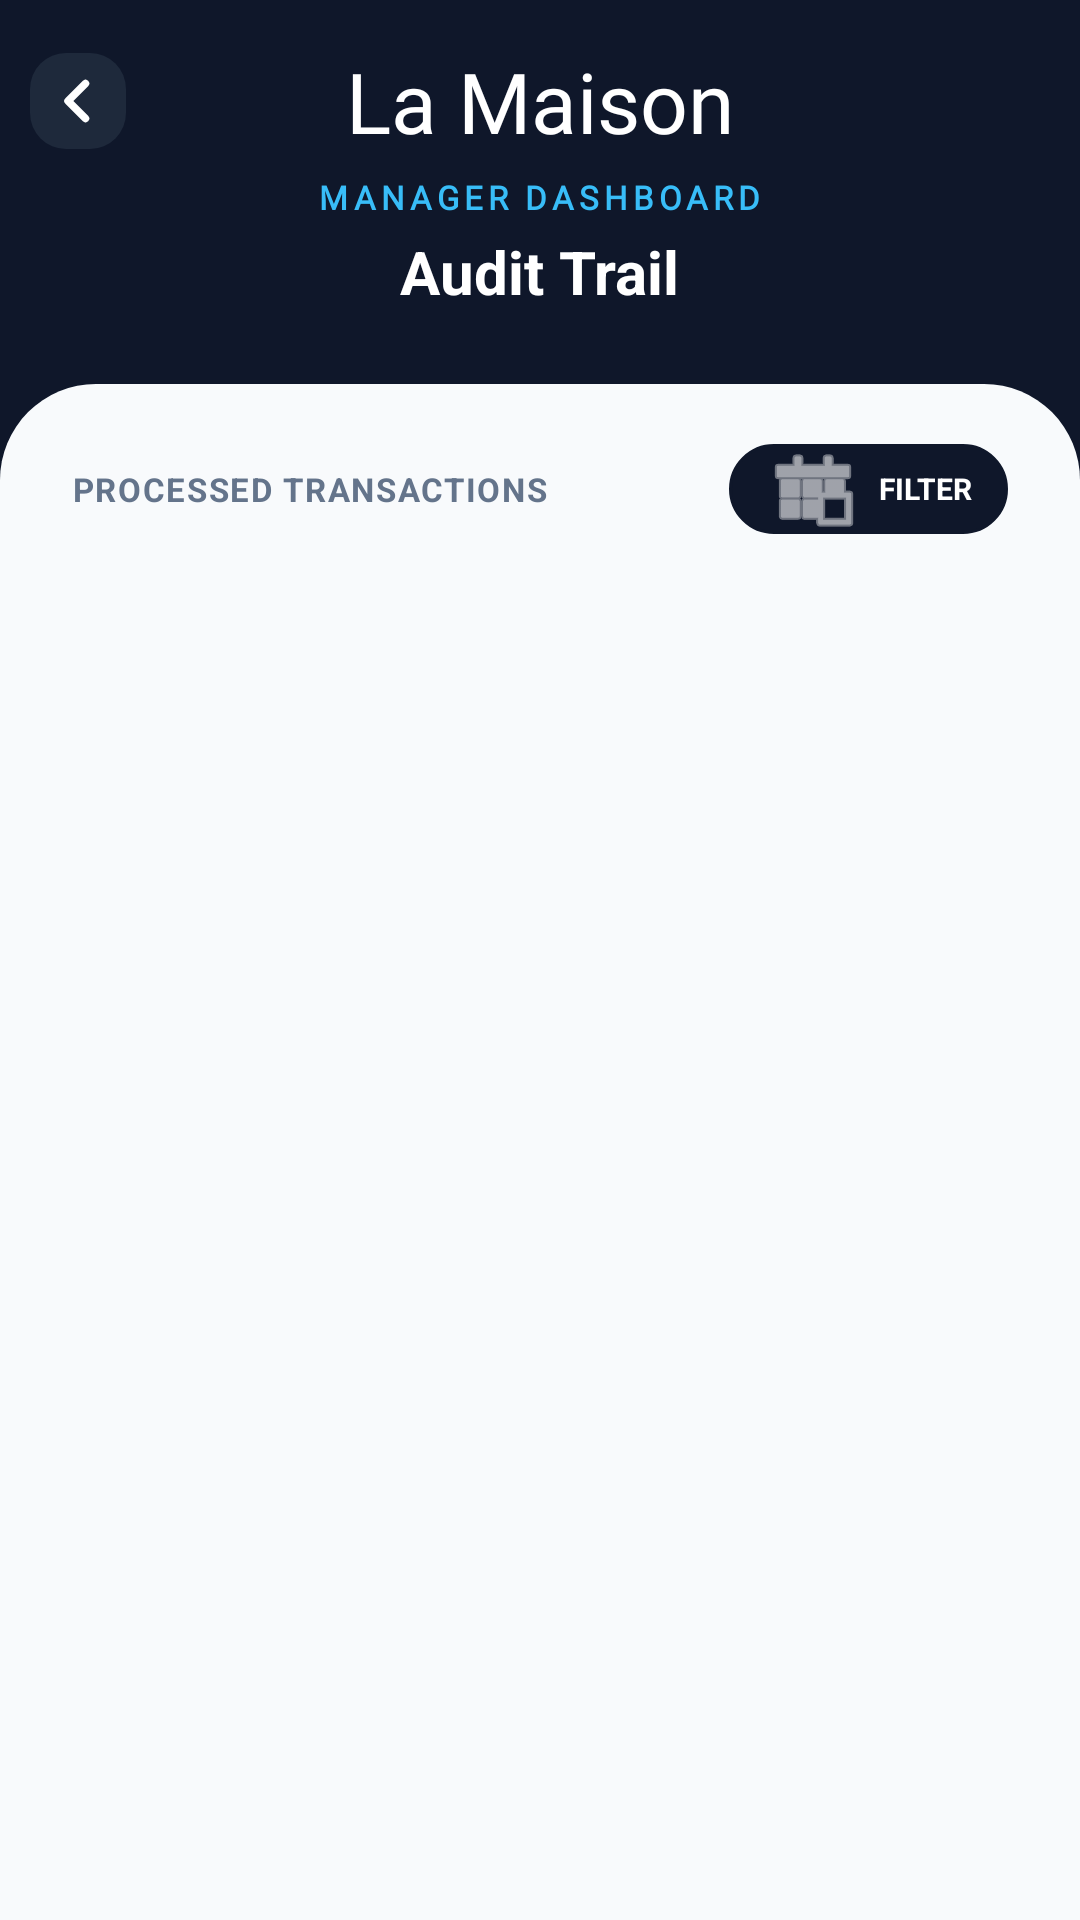

Point at icon controls on the screen. Image size 1080 x 1920, points as (x,y).
chevron left: (78,101)
